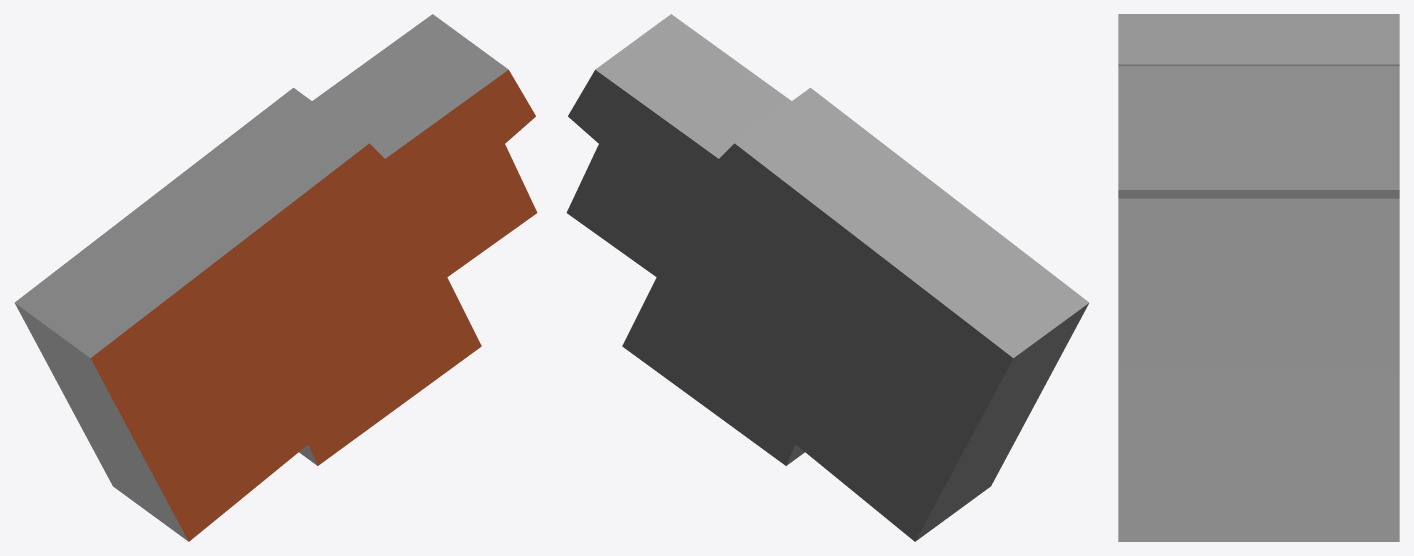
File: construction_0410_assumed_A_Casa_h6m.obj
3 renders of one model, left to right at view 1: azimuth 30°, elevation 25°; view 2: azimuth 150°, elevation 25°; view 3: azimuth 270°, elevation 25°, orthographic. The views are drawn at different scales.
Parts seen in each view (by area): view 1: construction_0410_assumed_A_Casa; view 2: construction_0410_assumed_A_Casa; view 3: construction_0410_assumed_A_Casa.
Boxes of the visible parts, x1,y1,x2,y2 form: construction_0410_assumed_A_Casa: [14, 14, 537, 541]; construction_0410_assumed_A_Casa: [566, 14, 1089, 541]; construction_0410_assumed_A_Casa: [1118, 14, 1399, 541].
Bounding box in the file's own units: 20.37 × 17.17 × 6.
